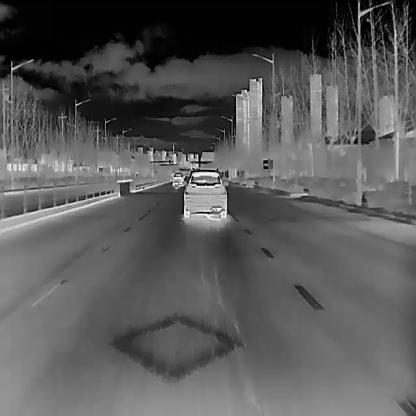car: (182, 169, 228, 217), (170, 172, 184, 186)
